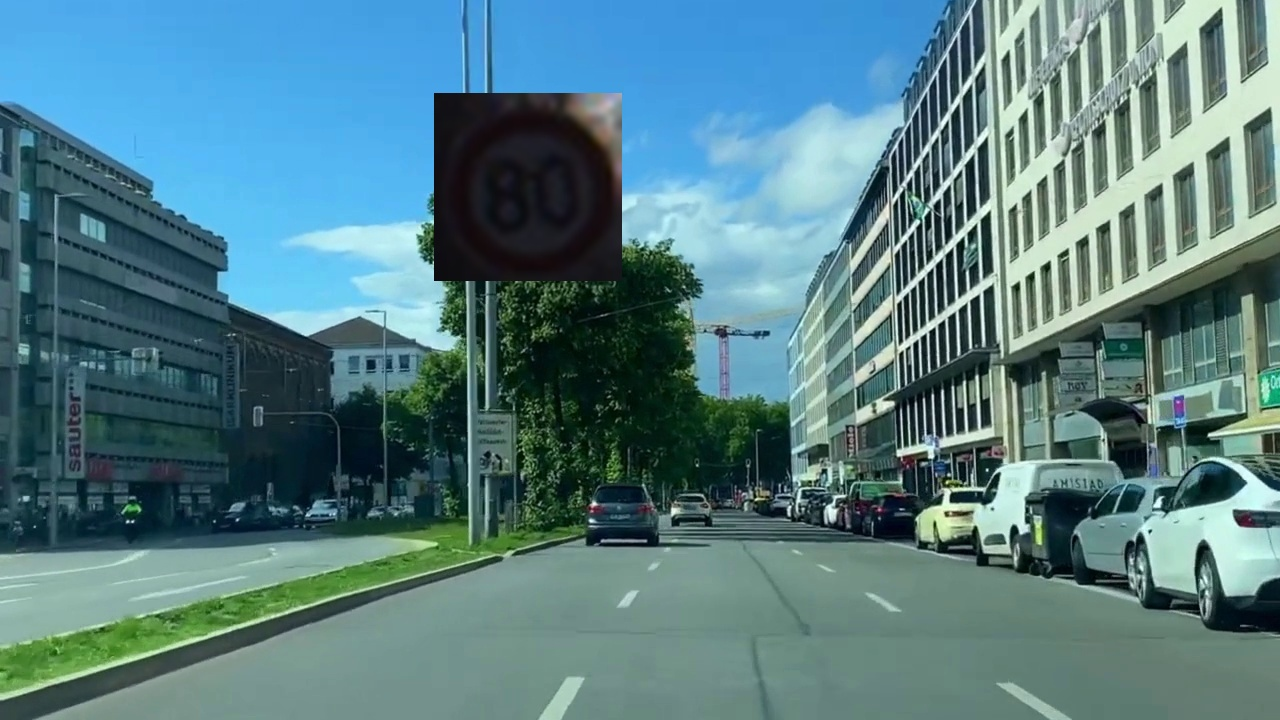Speed 80: (434, 93, 622, 281)
